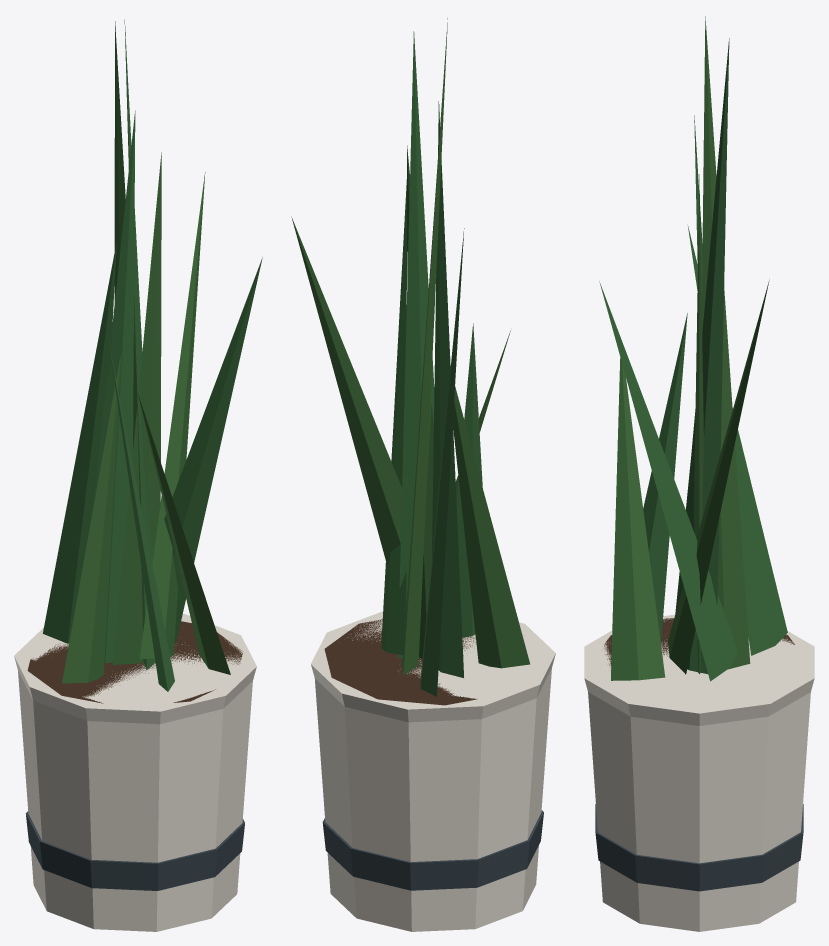
Rendered from plant_snake.glb.
3 views of the same model, side by side, from view 1: azimuth 30°, elevation 25°; view 2: azimuth 150°, elevation 25°; view 3: azimuth 270°, elevation 25° (orthographic).
Parts seen in each view (by area): view 1: PlantSnake; view 2: PlantSnake; view 3: PlantSnake.
Part boxes in pixels (x1=…): PlantSnake: x1=14, y1=19, x2=262, y2=931; PlantSnake: x1=291, y1=18, x2=555, y2=931; PlantSnake: x1=584, y1=16, x2=814, y2=931.
Bounding box in the file's own units: 0.31 × 1.22 × 0.2948.
